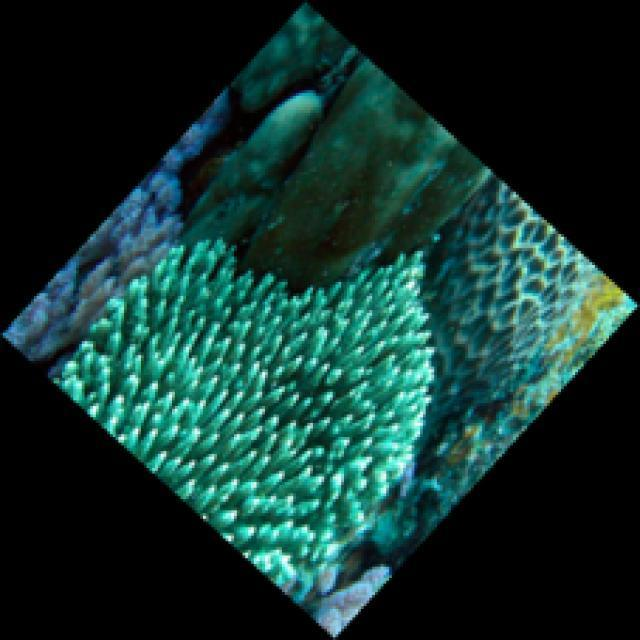Healthy: (50, 237, 437, 600), (182, 1, 494, 297), (422, 170, 595, 423)
